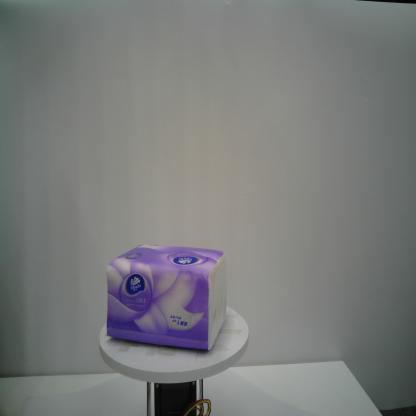Tissue: (105, 242, 228, 352)
